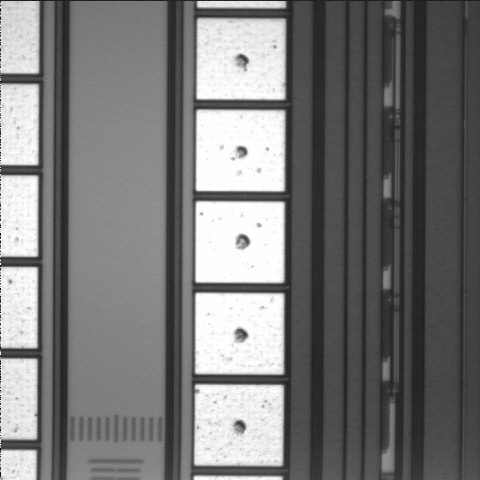pad: (195, 201, 285, 283), (194, 384, 284, 466), (196, 19, 285, 100), (196, 110, 285, 191), (195, 293, 284, 374)
